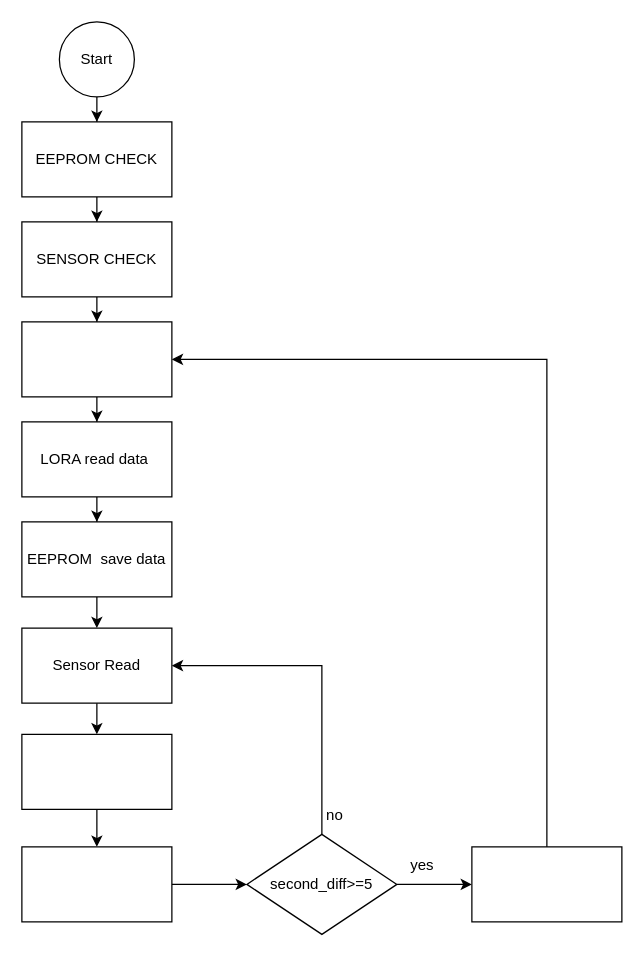
Image size: 644x956. Some labels were removed from this diagram. The shapes that lost their labels are listed below. From the top down, each one's centre as x and y in pixels, then its label:
the point at 96,359: LORA connect request
the point at 96,771: Water Pump and LED on/off
the point at 96,884: Read RTC
the point at 546,884: time reset
